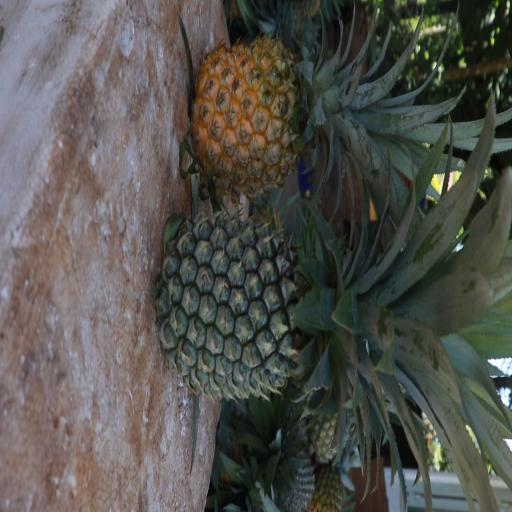Pineapple - v8 v1: (194, 42, 428, 188)
